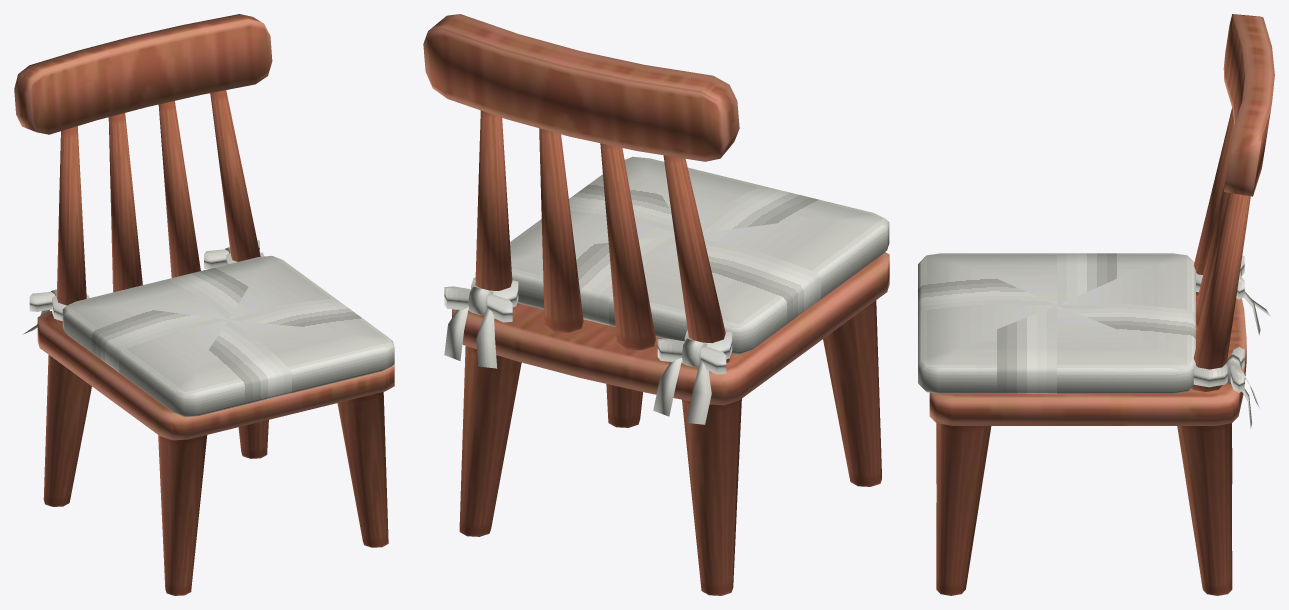
Rendered from rmk_scd_chairS uv fix.dae.
3 views of the same model, side by side, from view 1: azimuth 30°, elevation 25°; view 2: azimuth 150°, elevation 25°; view 3: azimuth 270°, elevation 25° (orthographic). The views are drawn at different scales.
Visible parts, largest first — view 1: vsn_mesh_0_, vsn_mesh_1_.1; view 2: vsn_mesh_0_, vsn_mesh_1_.1; view 3: vsn_mesh_1_.1, vsn_mesh_0_.
Part boxes in pixels (x1,y1,x2,y2): vsn_mesh_0_: [14, 14, 394, 595]; vsn_mesh_1_.1: [23, 240, 394, 417]; vsn_mesh_0_: [423, 14, 889, 595]; vsn_mesh_1_.1: [444, 156, 889, 424]; vsn_mesh_1_.1: [918, 253, 1270, 428]; vsn_mesh_0_: [929, 14, 1274, 595].
Bounding box in the file's own units: 21.09 × 35.03 × 24.27.
Materials: 3 (3 with a texture image).
